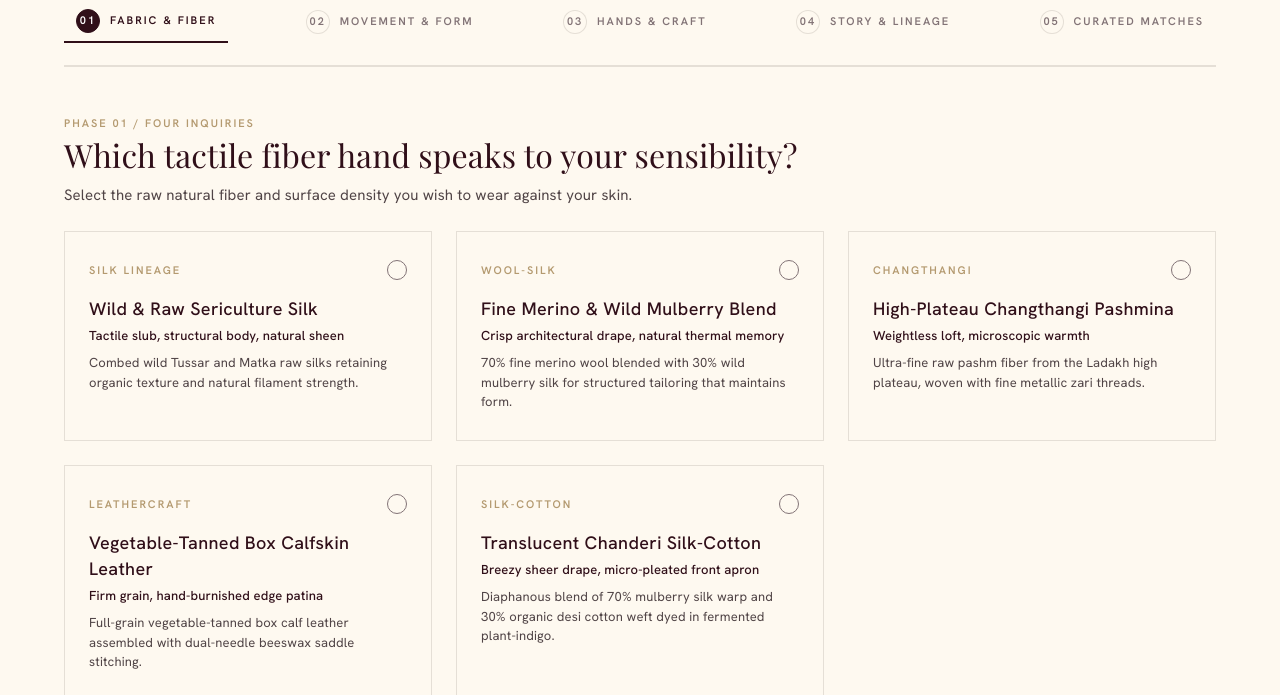
Scenario: Stage 3.4 Thread Compass Implementation Tests › 2. Guided Consultation Stepper & State Navigation › enables Continue button when an option is selected
This screenshot has width=1280, height=695.
(page scrolled)
What coordinates should you click on to do the following:
click the radio button with test id "option-fabric-wild-silk"
I would click on:
 (248, 336)
Its box is [64,231,432,441].
(page scrolled)
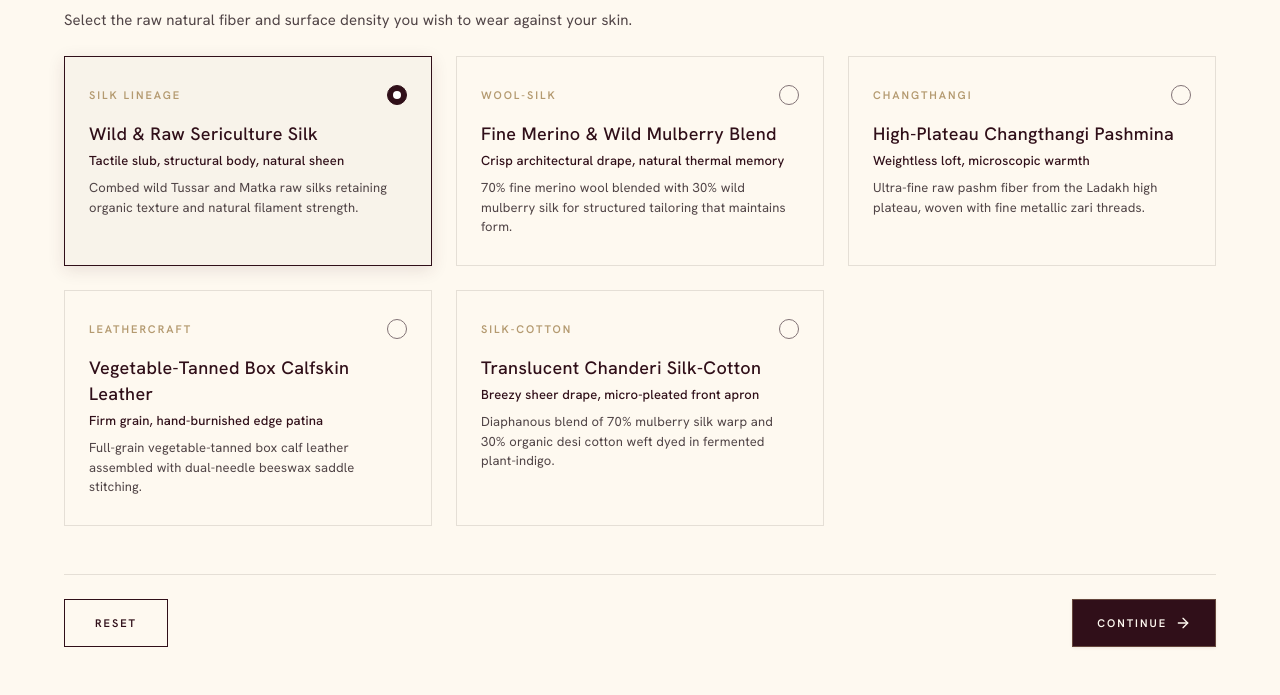
expect the button with test id "step-continue-btn" is enabled: met, box [1072,599,1216,647]
